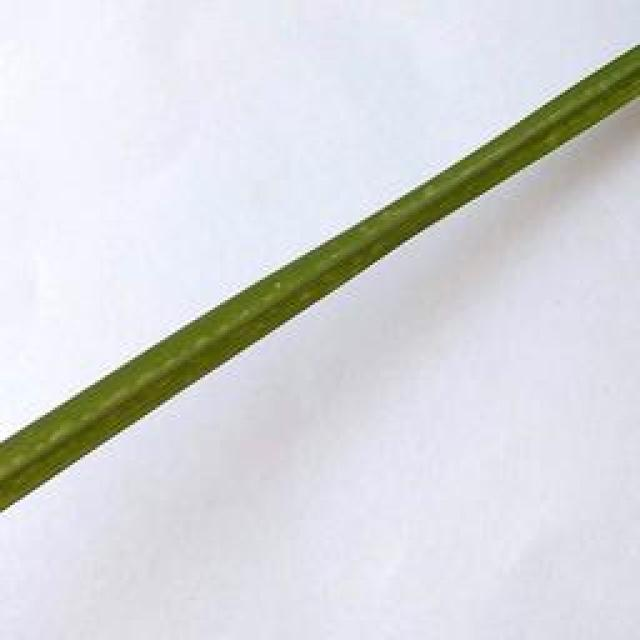Healthy-Plant: (0, 47, 640, 514)
